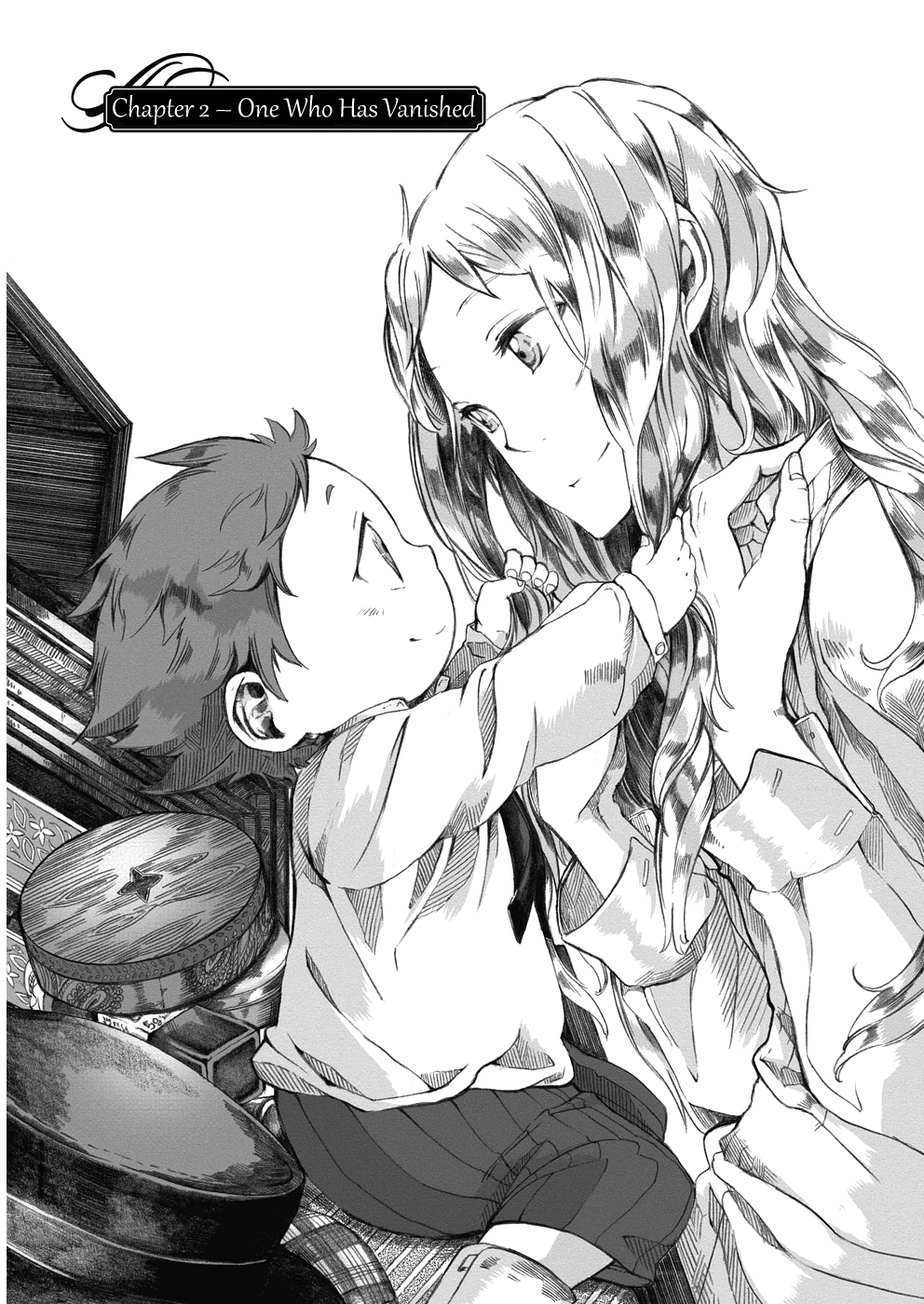bubble: (109, 86, 480, 130)
